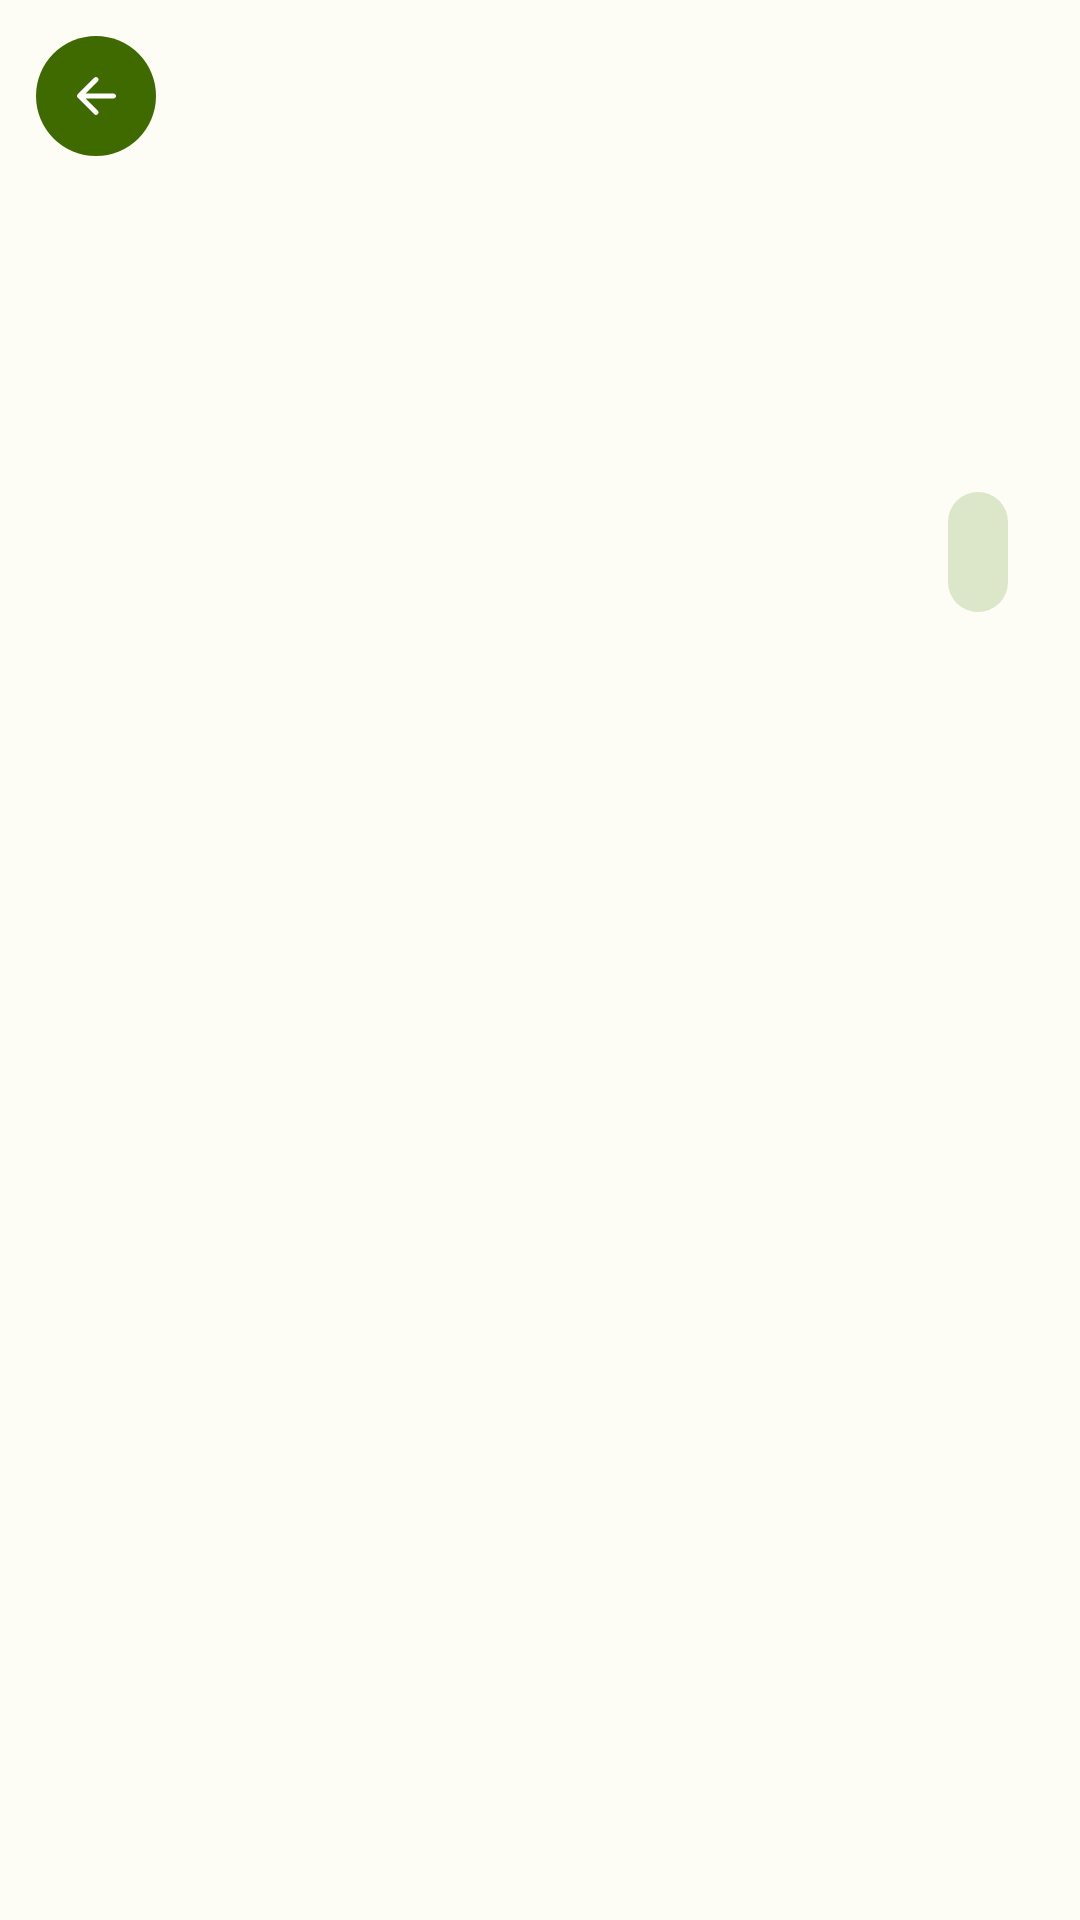

Icon click points for this 1080×1920 phone screenshot, format (x=x, y=y):
arrow back: (x=96, y=96)
